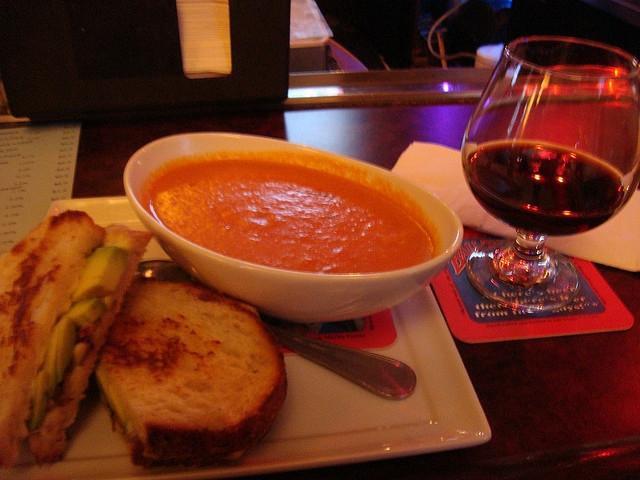avocado: (70, 246, 127, 302), (42, 320, 62, 398), (54, 316, 76, 386), (63, 296, 107, 328), (28, 371, 48, 432)
